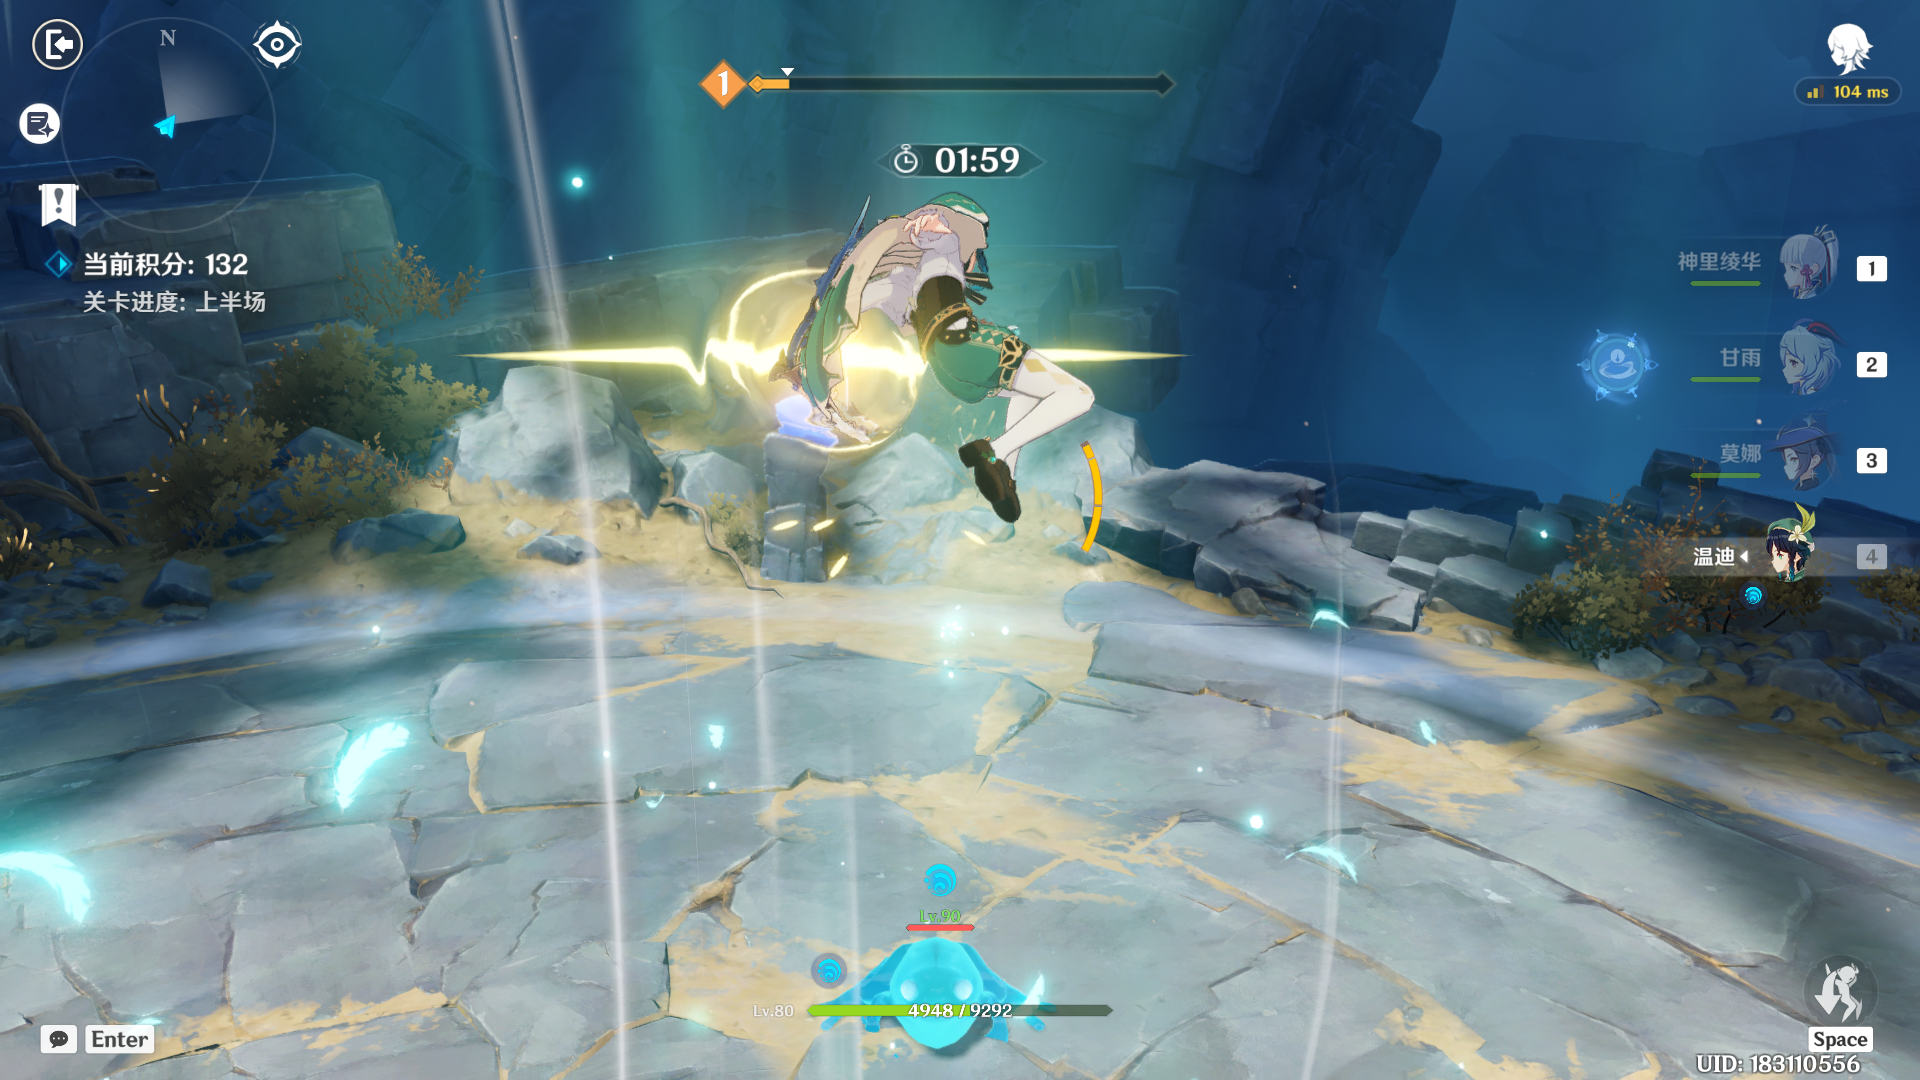character: (744, 157, 1118, 531)
